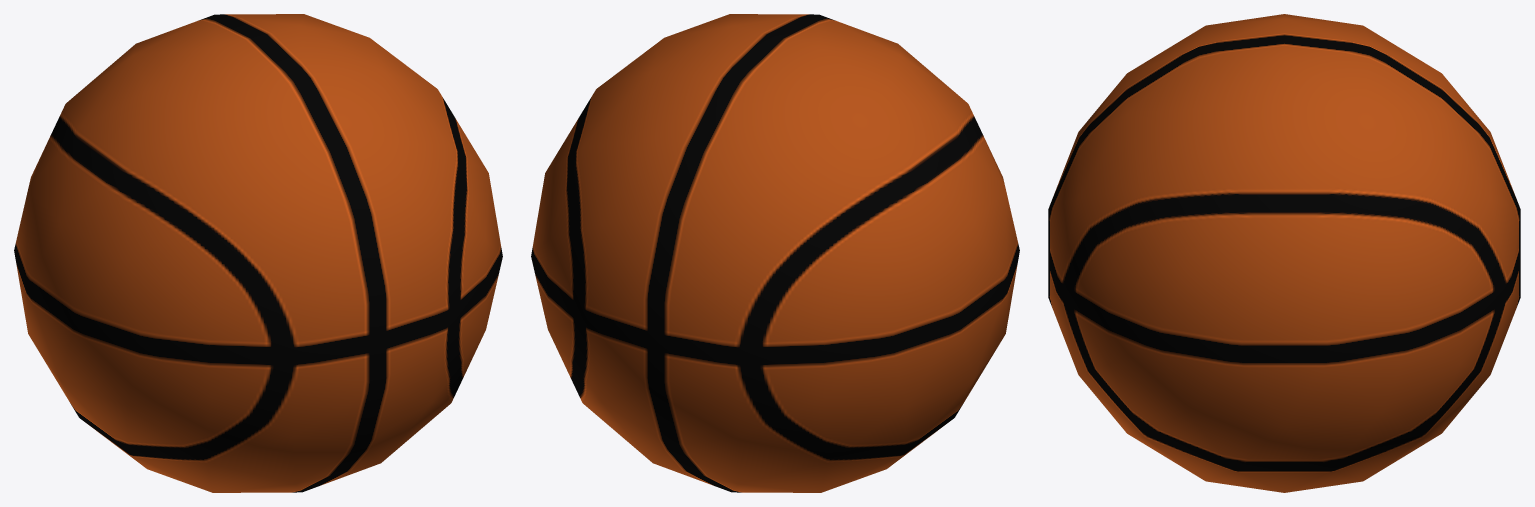
File: basketball.fbx
The picture shows the model from 3 angles, left to right: view 1: azimuth 30°, elevation 25°; view 2: azimuth 150°, elevation 25°; view 3: azimuth 270°, elevation 25°; orthographic projection.
Parts seen in each view (by area): view 1: basketball; view 2: basketball; view 3: basketball.
Boxes of the visible parts, x1,y1,x2,y2 form: basketball: (14, 14, 502, 492); basketball: (531, 14, 1019, 492); basketball: (1048, 14, 1520, 492).
Bounding box in the file's own units: 61.51 × 61.51 × 61.51.
Materials: 1 (1 with a texture image).
